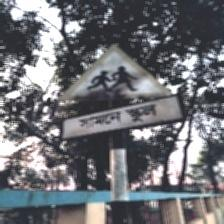School-in-front: (57, 43, 183, 140)
